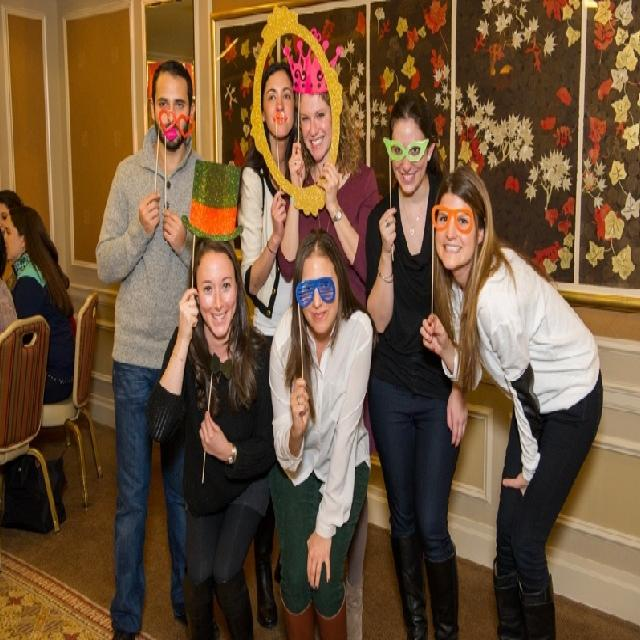body: (416, 162, 609, 638), (91, 54, 207, 640), (273, 51, 383, 640), (146, 156, 278, 640), (361, 87, 470, 638), (264, 222, 375, 638), (237, 57, 304, 340), (1, 203, 78, 408), (0, 226, 19, 339), (0, 187, 25, 242)
